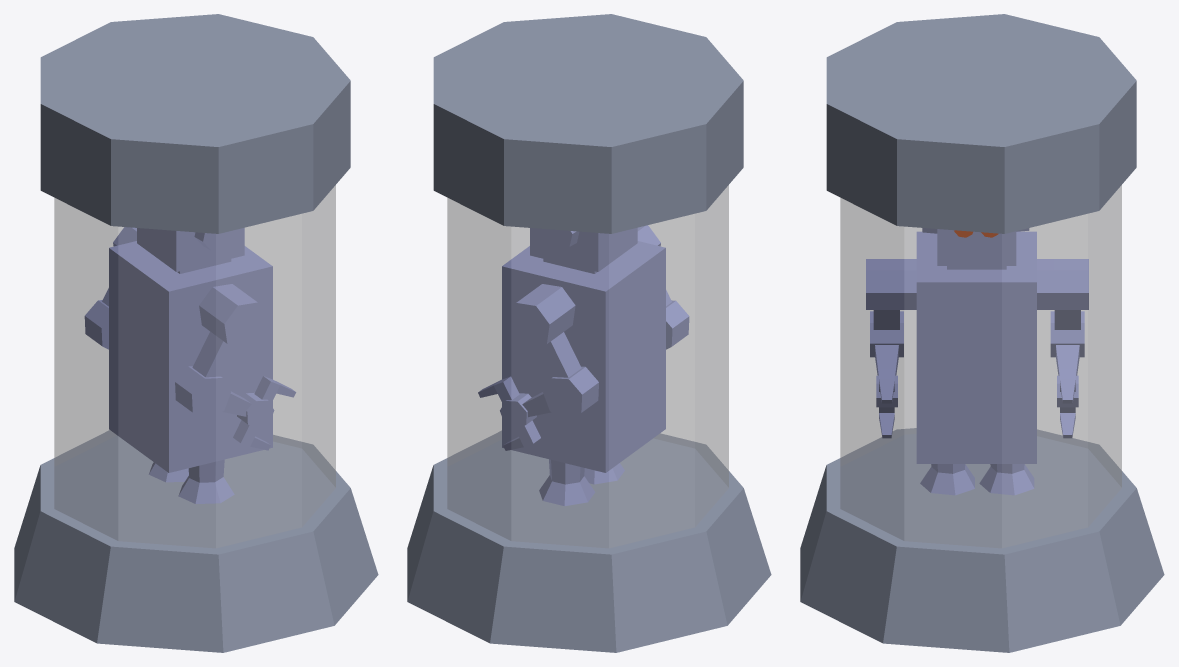
File: robo-pad-w-robot.fbx
The picture shows the model from 3 angles, left to right: view 1: azimuth 30°, elevation 25°; view 2: azimuth 150°, elevation 25°; view 3: azimuth 270°, elevation 25°; orthographic projection.
Parts seen in each view (by area): view 1: robo-pad; view 2: robo-pad; view 3: robo-pad.
Part boxes in pixels (box(x1,y1,x2,y2)): robo-pad: box(14, 14, 378, 652); robo-pad: box(407, 14, 771, 652); robo-pad: box(800, 14, 1164, 652).
Bounding box in the file's own units: 616 × 909 × 607.
